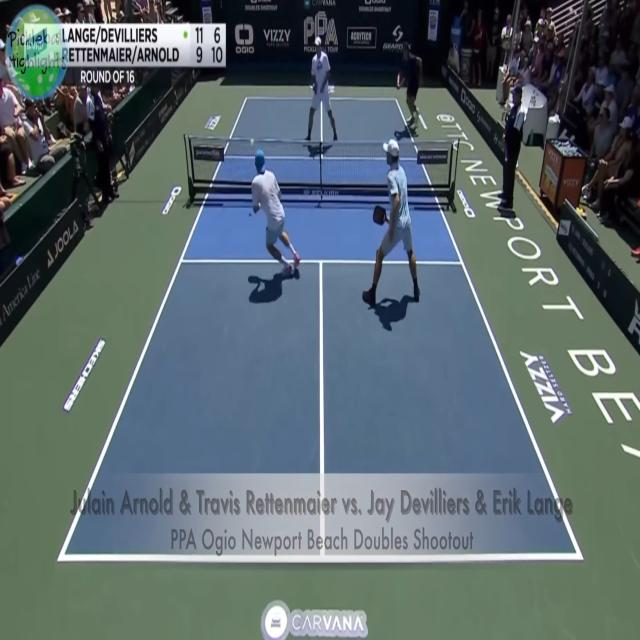ball: (249, 135, 255, 145)
